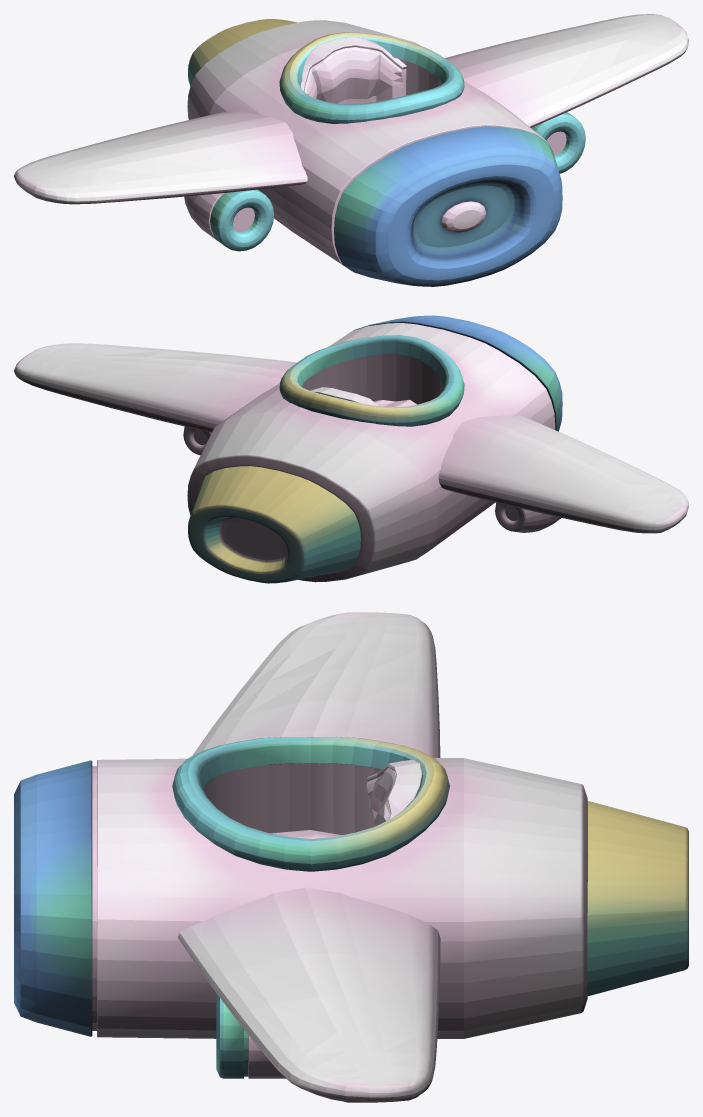
The model's file is Doodles_Vehicle_v2_Dream.glb.
3 views of the same model, one above another, from view 1: azimuth 30°, elevation 25°; view 2: azimuth 150°, elevation 25°; view 3: azimuth 270°, elevation 25° (orthographic). The views are drawn at different scales.
Parts seen in each view (by area): view 1: Vehicle.043, Vehicle.039, Vehicle.035, Vehicle.037, Vehicle.081, Vehicle.031, Vehicle.045, Vehicle.041, Vehicle.047, Vehicle.028, Vehicle.034, Vehicle.004 (+2 smaller); view 2: Vehicle.039, Vehicle.035, Vehicle.037, Vehicle.041, Vehicle.081, Vehicle.009, Vehicle.042, Vehicle.043, Vehicle.010, Vehicle.034, Vehicle.040, Vehicle.036 (+3 smaller); view 3: Vehicle.039, Vehicle.037, Vehicle.035, Vehicle.043, Vehicle.081, Vehicle.041, Vehicle.009, Vehicle.047, Vehicle.028, Vehicle.038, Vehicle.031, Vehicle.036 (+1 smaller).
Part boxes in pixels (<box>): Vehicle.043: <box>334,126,562,286</box>; Vehicle.039: <box>187,20,546,270</box>; Vehicle.035: <box>14,111,307,201</box>; Vehicle.037: <box>445,14,688,126</box>; Vehicle.081: <box>279,32,464,123</box>; Vehicle.031: <box>304,47,406,104</box>; Vehicle.045: <box>210,189,273,251</box>; Vehicle.041: <box>188,19,296,85</box>; Vehicle.047: <box>531,112,585,173</box>; Vehicle.028: <box>300,36,406,91</box>; Vehicle.034: <box>15,179,306,204</box>; Vehicle.004: <box>184,193,223,240</box>; Vehicle.039: <box>187,323,555,582</box>; Vehicle.035: <box>438,415,688,529</box>; Vehicle.037: <box>14,343,296,428</box>; Vehicle.041: <box>190,466,360,581</box>; Vehicle.081: <box>279,335,464,426</box>; Vehicle.009: <box>301,354,443,404</box>; Vehicle.042: <box>188,504,306,583</box>; Vehicle.043: <box>353,315,562,431</box>; Vehicle.010: <box>219,517,287,561</box>; Vehicle.034: <box>440,484,686,533</box>; Vehicle.040: <box>206,517,287,570</box>; Vehicle.036: <box>14,372,213,432</box>; Vehicle.039: <box>97,758,587,1038</box>; Vehicle.037: <box>177,887,440,1097</box>; Vehicle.035: <box>192,612,440,757</box>; Vehicle.043: <box>14,760,92,1036</box>; Vehicle.081: <box>172,736,449,871</box>; Vehicle.041: <box>587,801,685,996</box>; Vehicle.009: <box>204,763,381,835</box>; Vehicle.047: <box>216,993,243,1078</box>; Vehicle.028: <box>367,759,422,819</box>; Vehicle.038: <box>92,766,96,1030</box>; Vehicle.031: <box>366,768,395,828</box>; Vehicle.036: <box>185,949,432,1102</box>.
Bounding box in the file's own units: 8.98 × 2.04 × 5.34.
2 materials, 2 textured.
